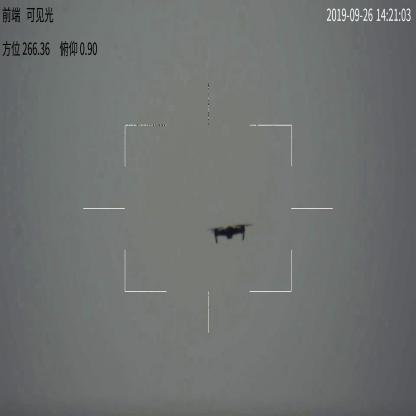uav: (208, 219, 253, 244)
